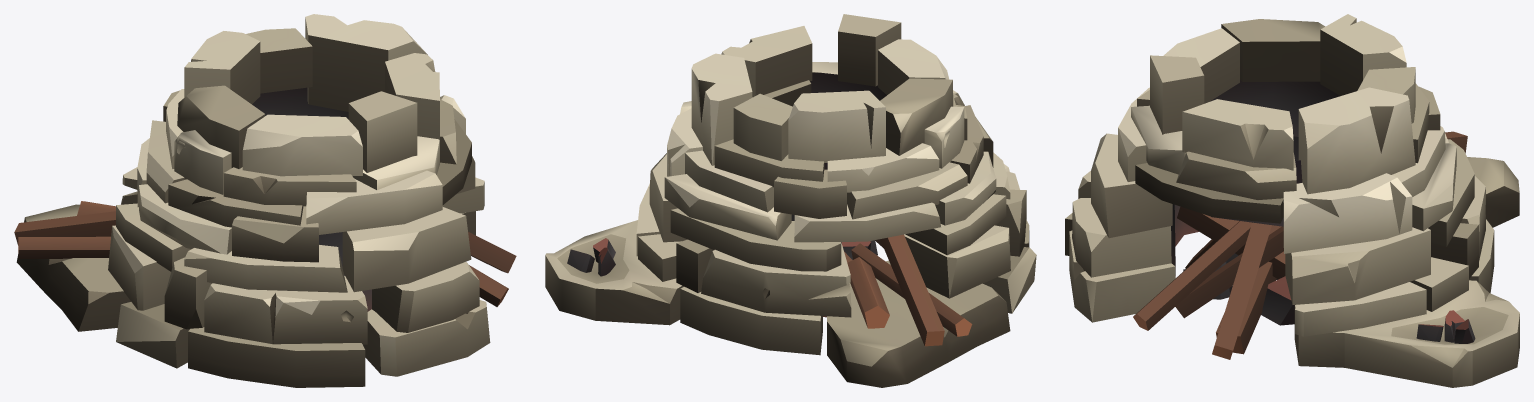
File: Furnace_1B.fbx
3 views of the same model, side by side, from view 1: azimuth 30°, elevation 25°; view 2: azimuth 150°, elevation 25°; view 3: azimuth 270°, elevation 25° (orthographic). The views are drawn at different scales.
Parts seen in each view (by area): view 1: Furnace_1B; view 2: Furnace_1B; view 3: Furnace_1B.
Part boxes in pixels (x1,y1,x2,y2): Furnace_1B: (14, 14, 516, 387); Furnace_1B: (545, 14, 1036, 387); Furnace_1B: (1065, 14, 1519, 387).
Bounding box in the file's own units: 3.47 × 1.82 × 3.11.
